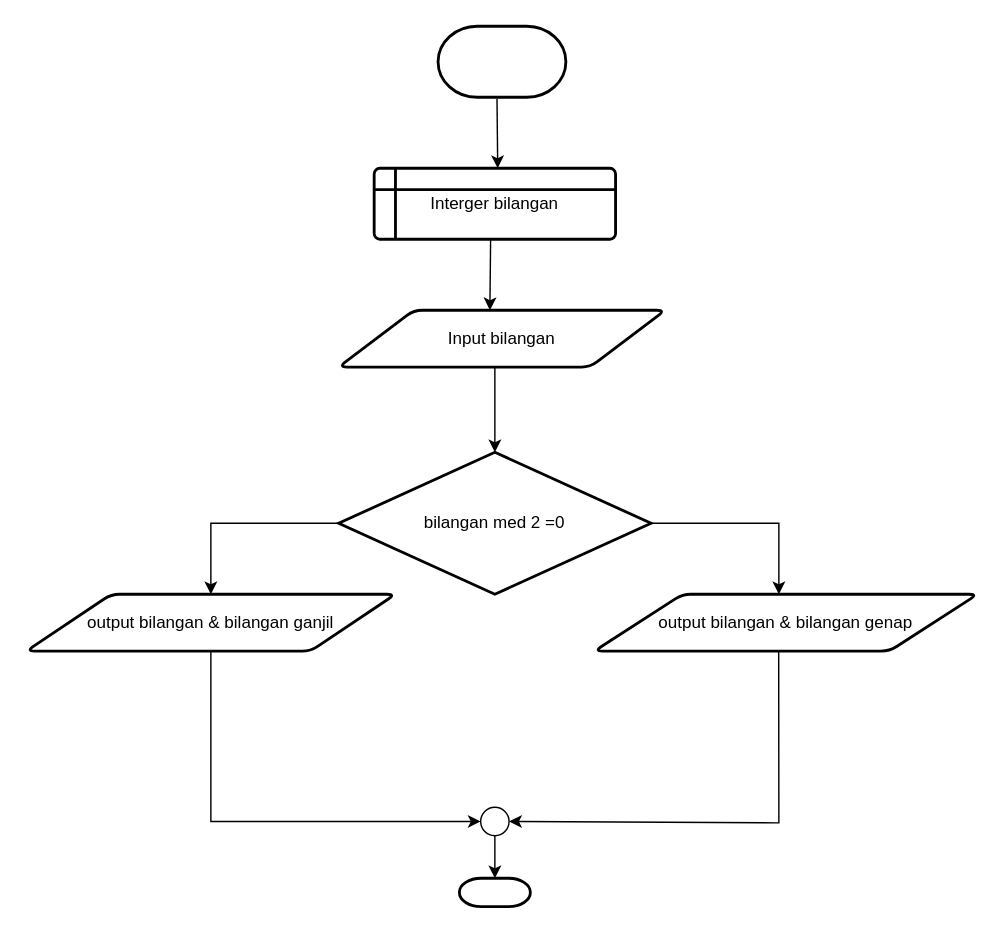
This 1003x932 diagram has some shape labels left out. Here are the shapes that lost their labels. From the top down, the centre of each, then its label:
point (501, 61): start
point (494, 891): end
